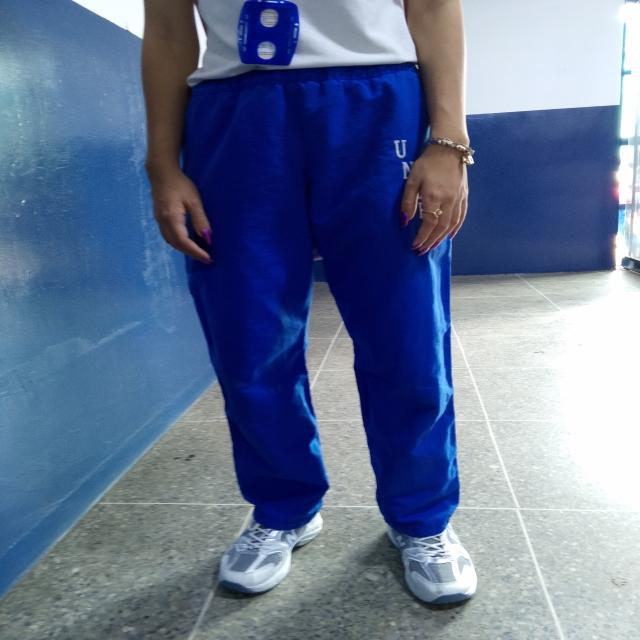carnet: (238, 0, 300, 68)
uniforme_superior: (182, 62, 462, 539)
